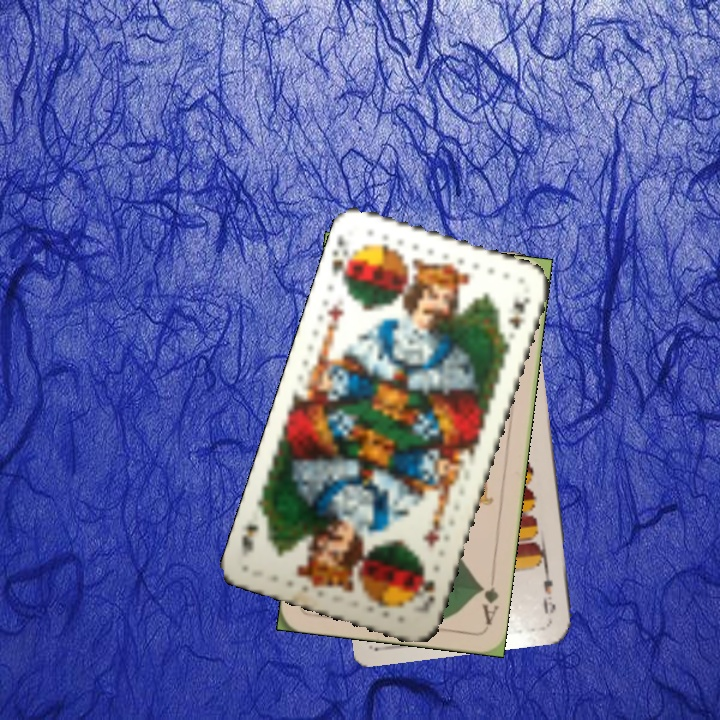E9: (539, 561, 559, 616)
GA: (476, 569, 501, 628)
SK: (327, 232, 357, 288), (412, 563, 439, 613)
